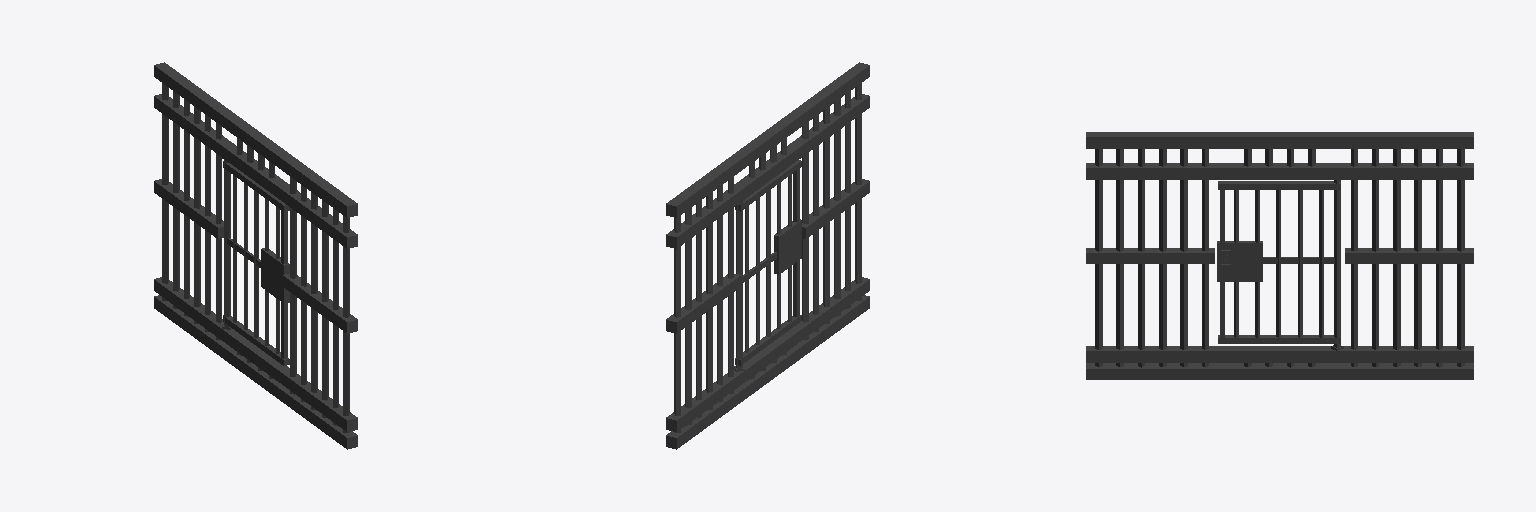
Rendered from Grades(Door).obj.
3 views of the same model, side by side, from view 1: azimuth 30°, elevation 25°; view 2: azimuth 150°, elevation 25°; view 3: azimuth 270°, elevation 25° (orthographic).
Visible parts, largest first — view 1: Grades, Portao; view 2: Grades, Portao; view 3: Grades, Portao.
Boxes of the visible parts, x1=… form: Grades: x1=154, y1=62, x2=357, y2=449; Portao: x1=222, y1=158, x2=289, y2=365; Grades: x1=666, y1=62, x2=869, y2=449; Portao: x1=734, y1=160, x2=801, y2=371; Grades: x1=1086, y1=132, x2=1473, y2=379; Portao: x1=1217, y1=180, x2=1343, y2=350.
Bounding box in the file's own units: 0.3 × 6.3 × 9.09.